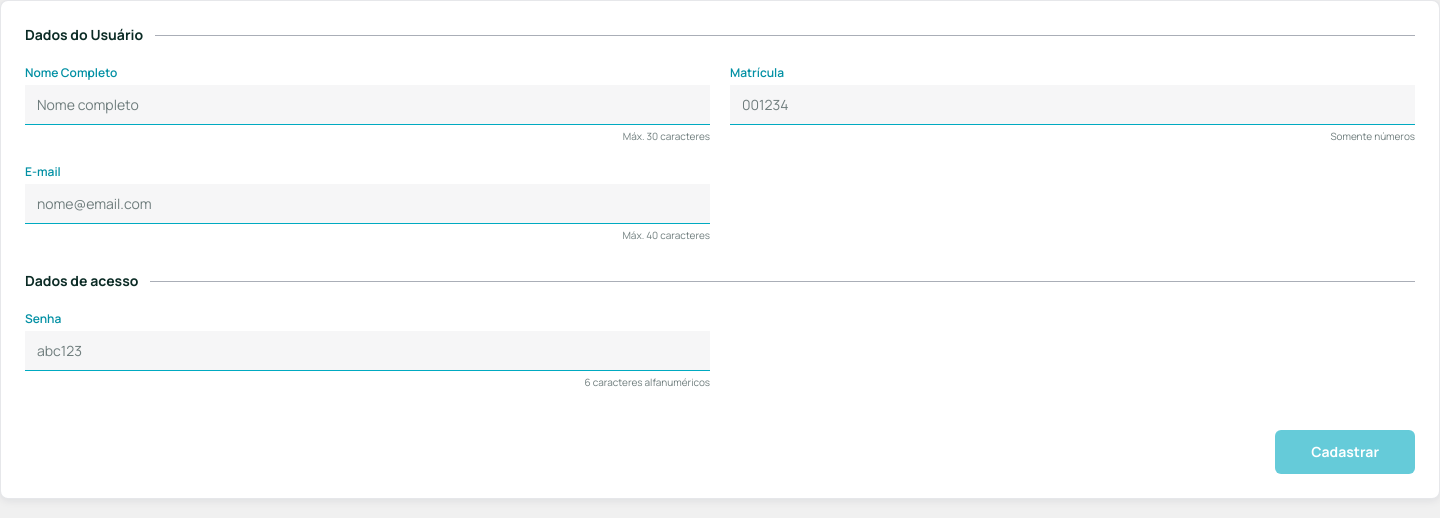
Test: UserForm › displays an error for a registration containing letters
This screenshot has width=1440, height=518.
Type "00A123" into the field labelled "Matrícula" at (1072, 105), box [730,85,1415,125]
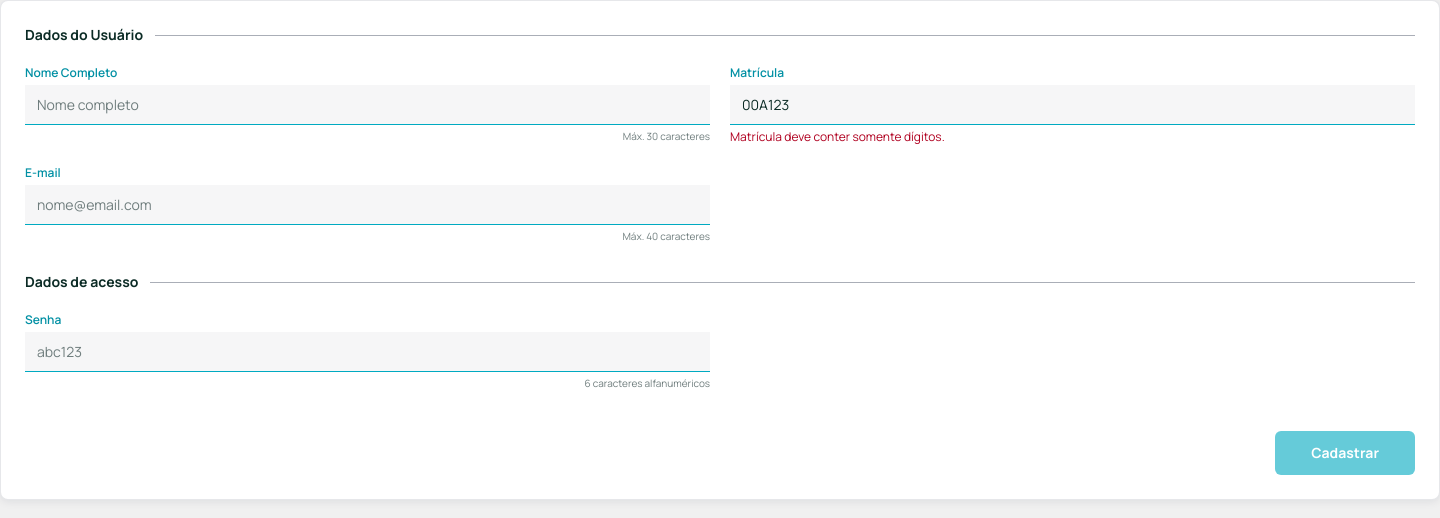
Expected: the message reads "Matrícula deve conter somente dígitos.", [730,128,945,145]
